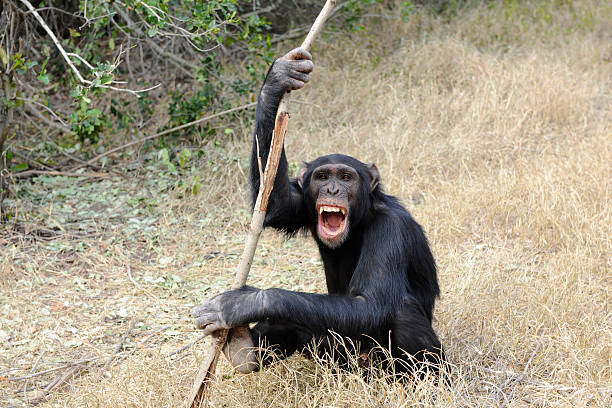chimpanzee: (290, 144, 384, 268)
